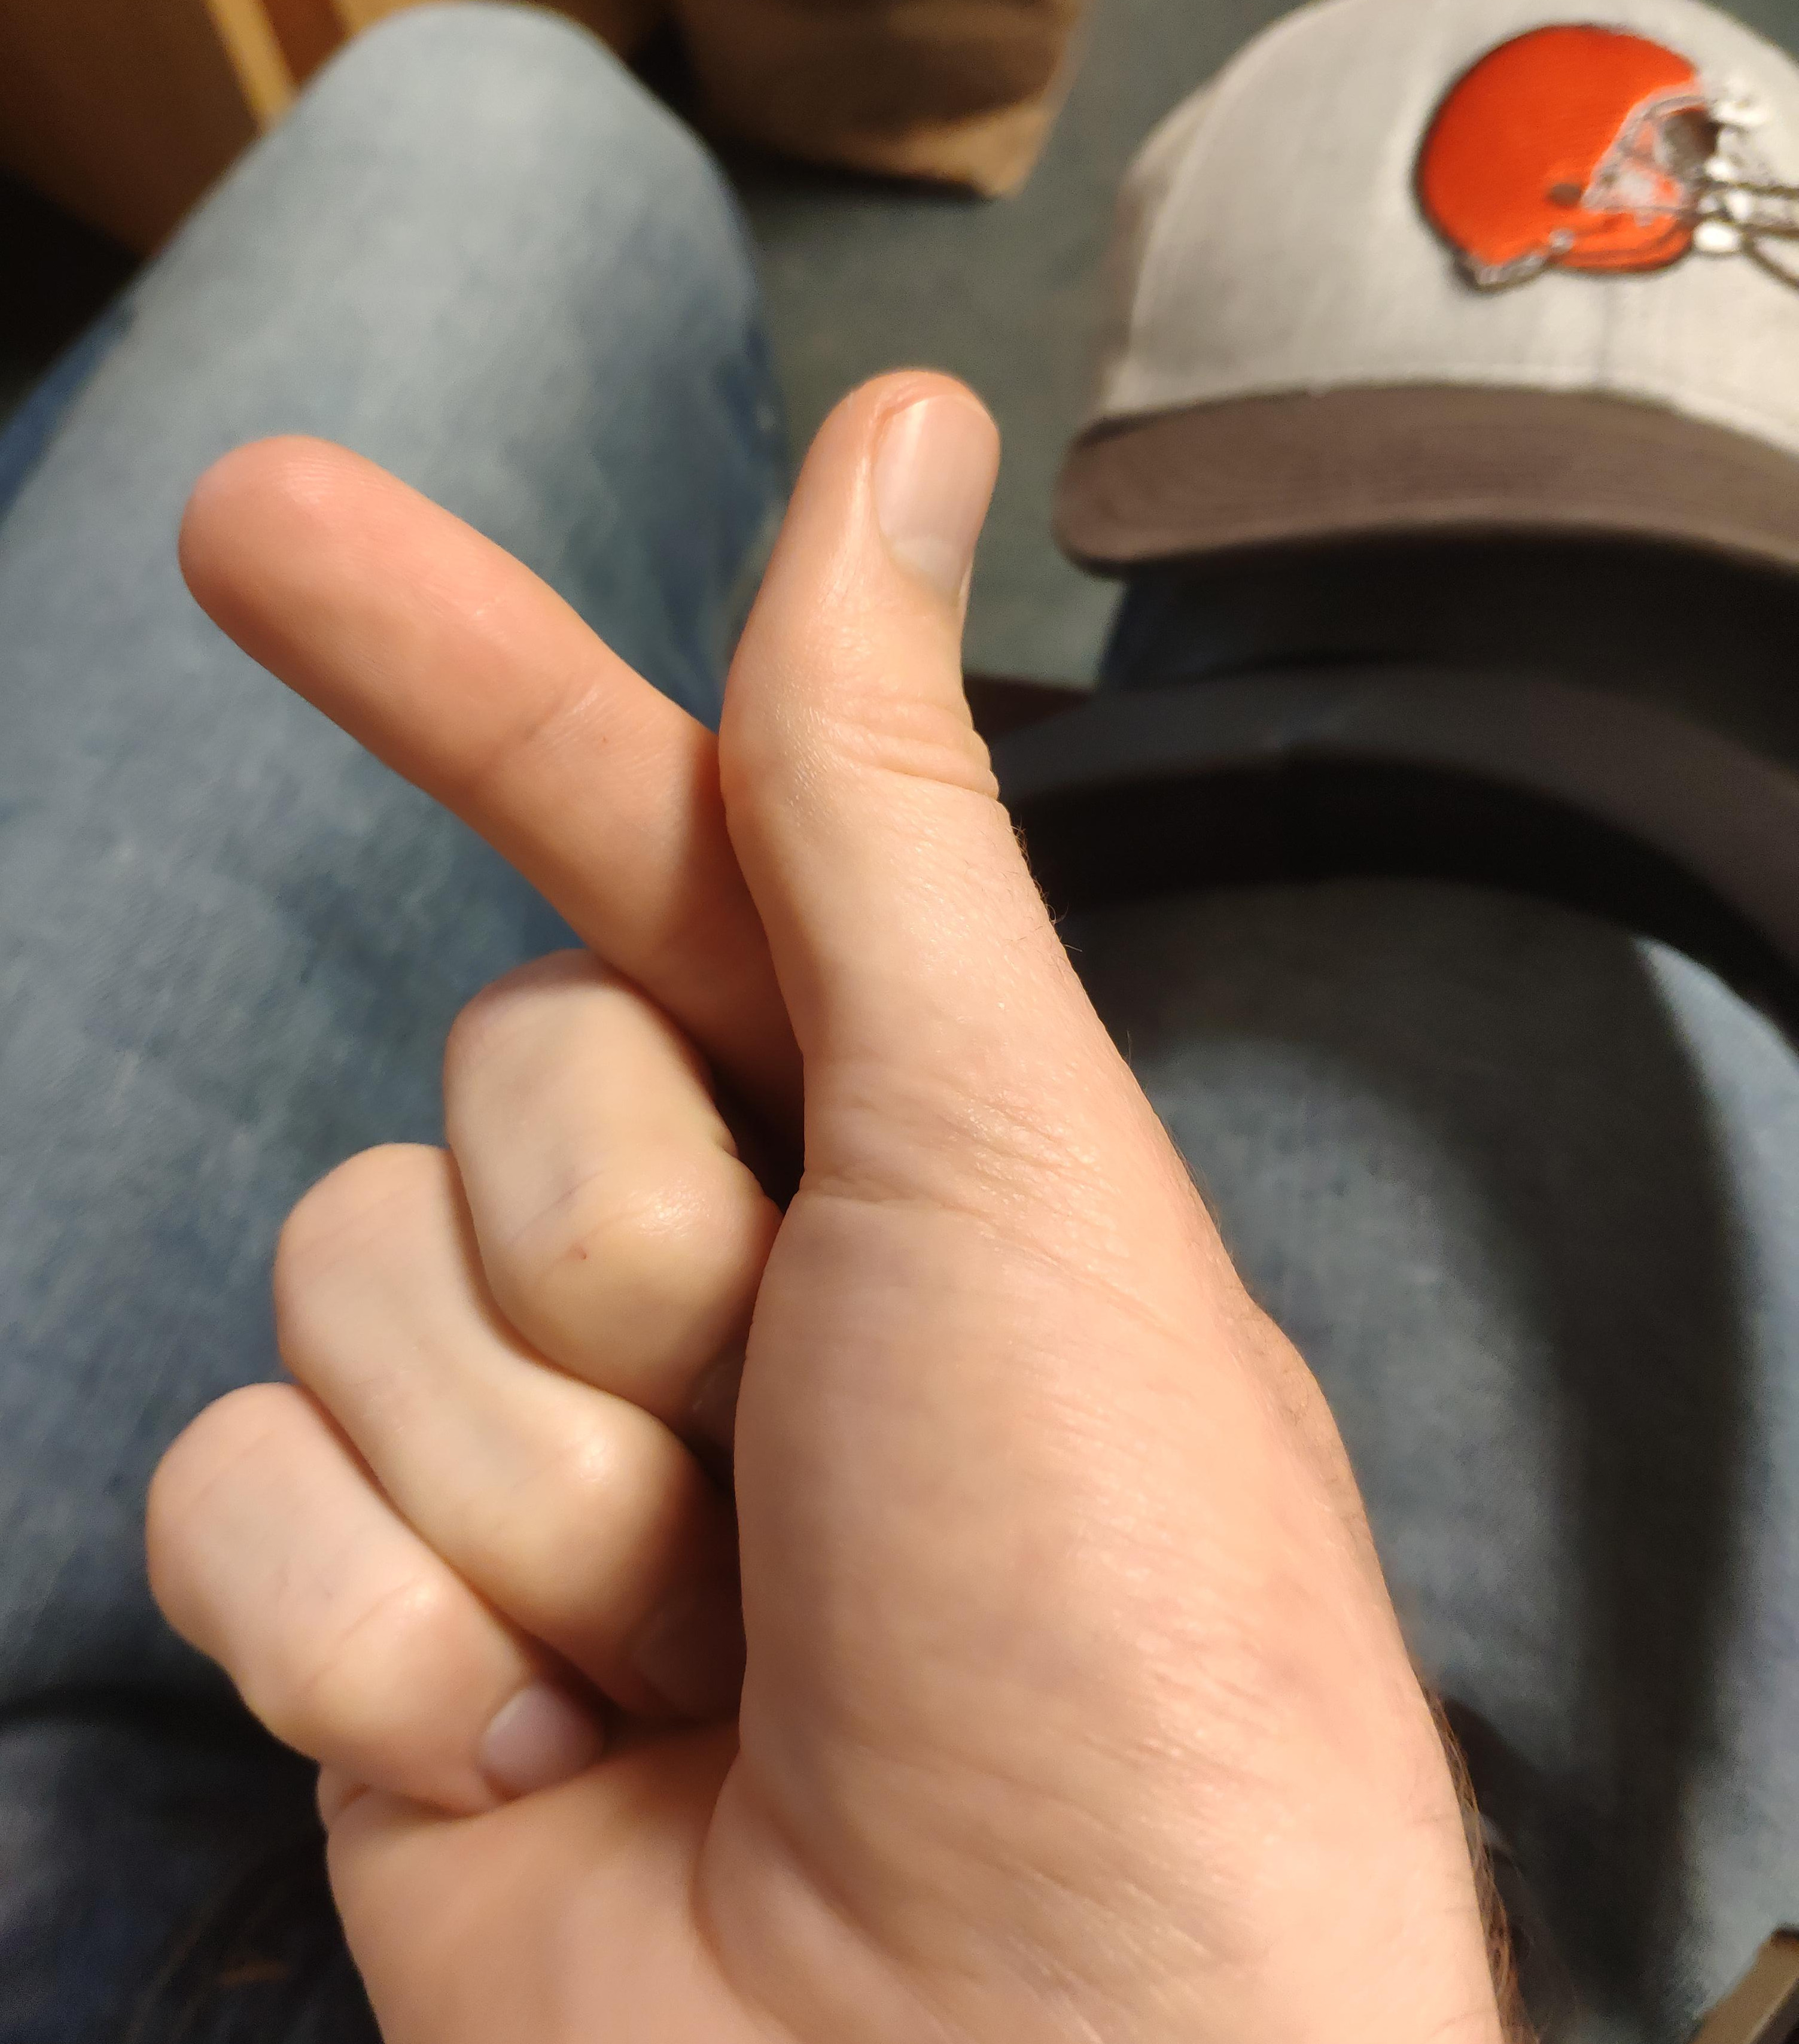heart gesture: (165, 362, 1034, 951)
